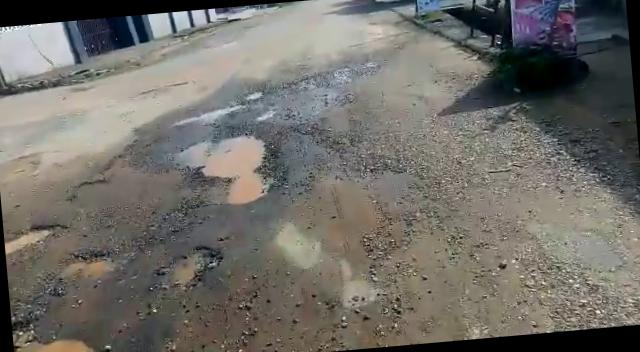pothole: (168, 126, 274, 210), (158, 241, 224, 293), (4, 219, 70, 258), (13, 334, 105, 352)
